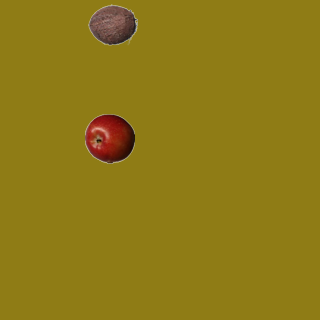Apple Braeburn: (84, 113, 134, 163)
Cocos: (87, 0, 137, 49)
